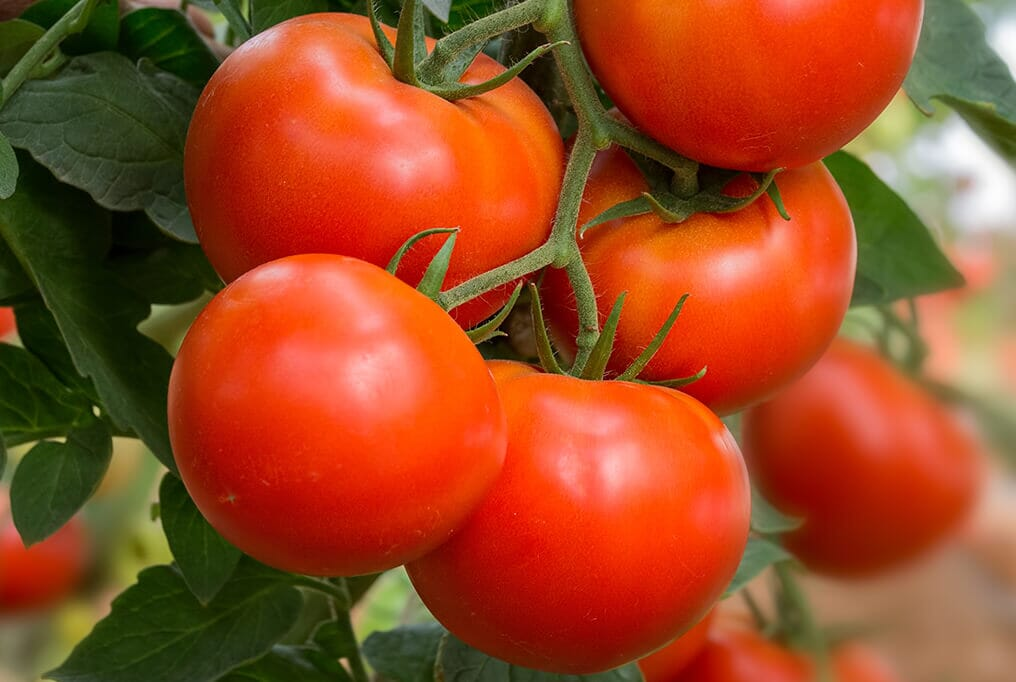tomato: (167, 12, 856, 673)
